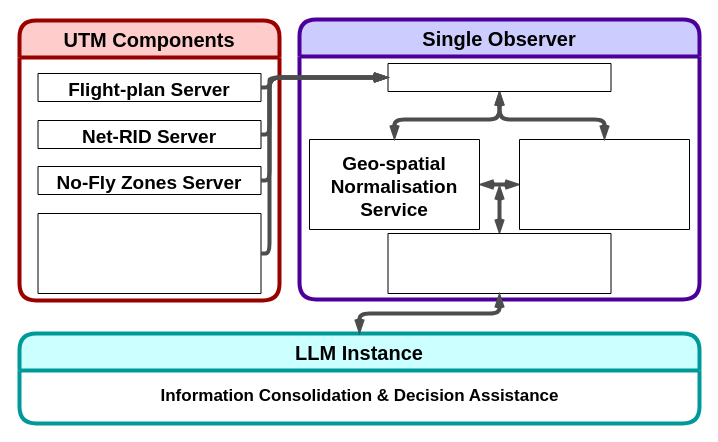
Image size: 718x442. Some labels were removed from this diagram. The centre of each missing label's shape, as x and y in pixels:
Anonymization Service: (x=604, y=184)
LLM Interface: (x=499, y=263)
UAV/Operators Registration & Identity Service: (x=149, y=253)
UTM Accumulator: (x=499, y=77)
